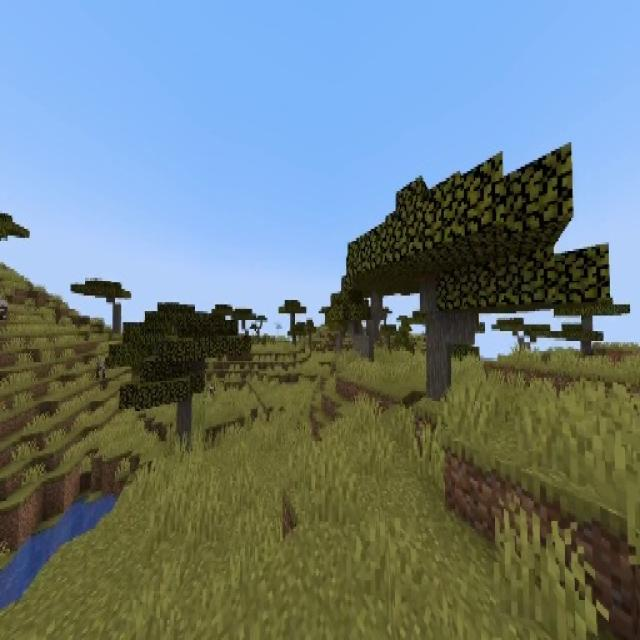acacia: (341, 142, 575, 402), (121, 331, 218, 465), (492, 316, 561, 371), (70, 278, 131, 336), (278, 297, 306, 344)
acacia_log: (422, 292, 452, 401), (449, 314, 474, 344), (178, 398, 190, 448), (361, 337, 372, 362), (371, 297, 382, 322), (112, 306, 121, 336), (367, 322, 376, 339)
